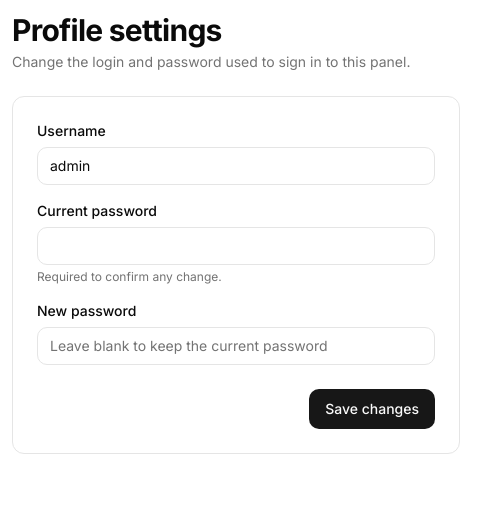
ProfileSettings › shows the backend error when the current password is wrong
This screenshot has width=477, height=507.
Replace the text in the field labelled "Username" with "newlogin" at (236, 166), box 37,147 -> 435,185
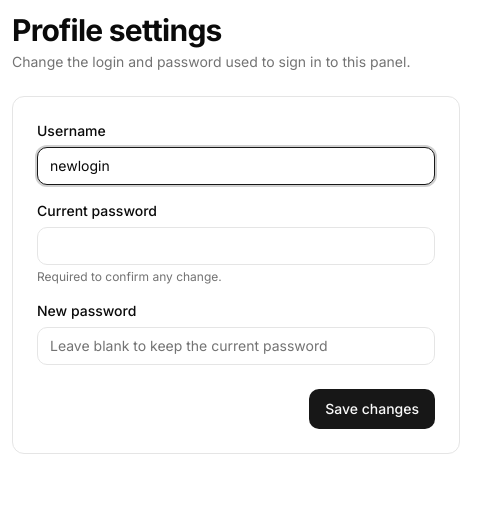
Type "wrong" into the password field labelled "Current password" at (236, 246), box 37,227 -> 435,265
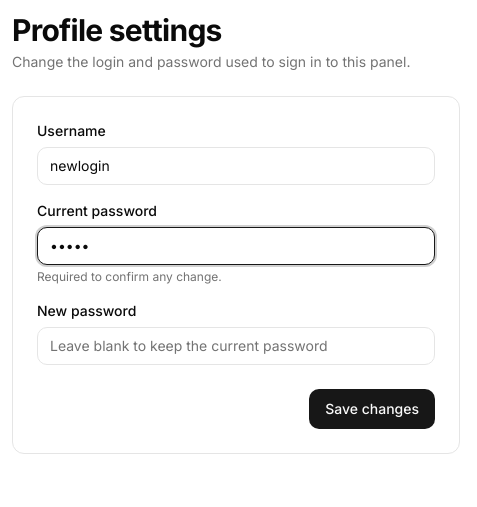
Click the button "Save changes" at (372, 409), box 309,389 -> 435,429
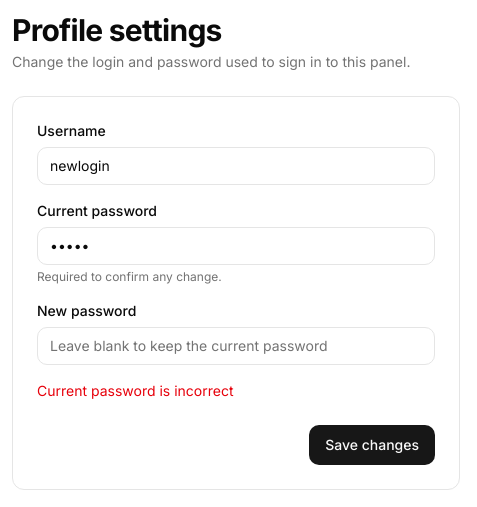
Check: the text "Current password is incorrect" is shown, box 37,382 -> 234,399
